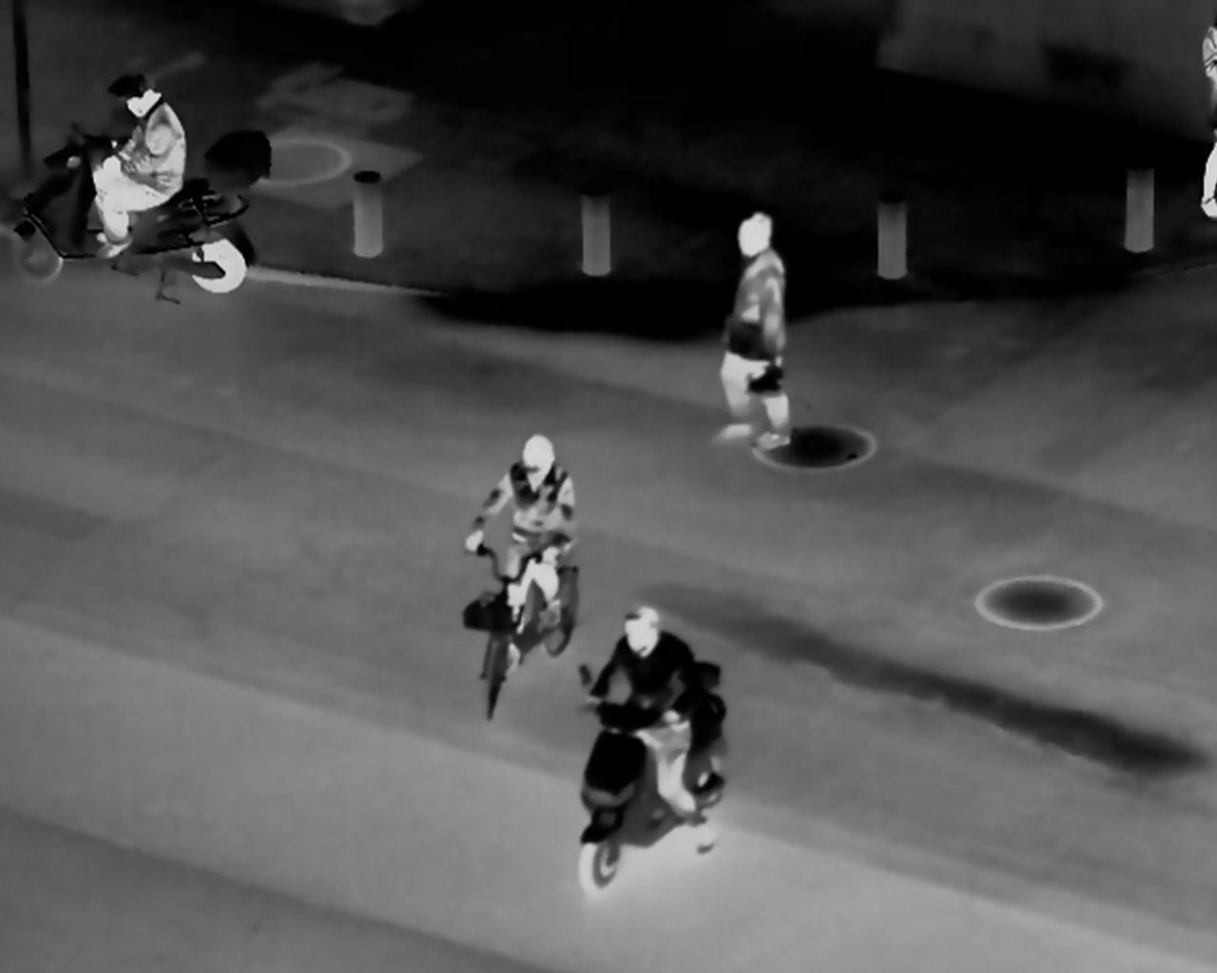person: (593, 597, 718, 870), (466, 431, 582, 681), (702, 205, 809, 457), (87, 74, 197, 265)
